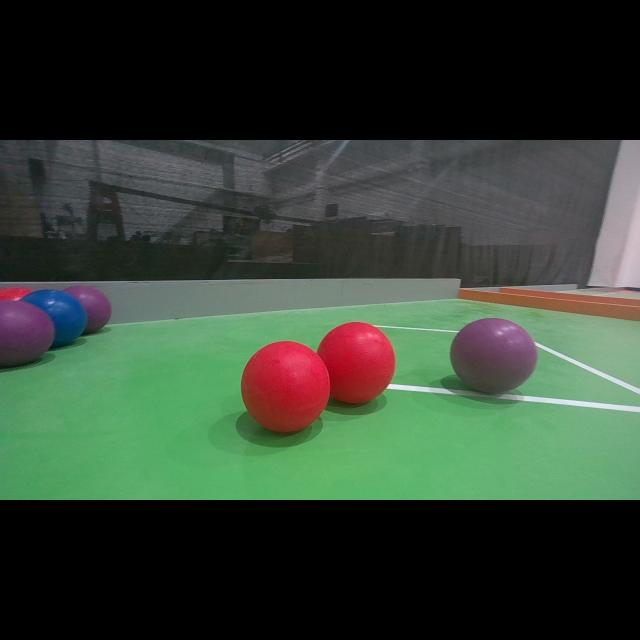B: (17, 289, 88, 347)
P: (449, 318, 538, 394), (0, 302, 58, 366)
R: (240, 342, 330, 432), (318, 321, 394, 403)
